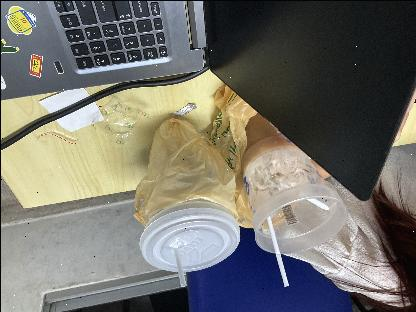Others: (240, 113, 346, 256), (206, 82, 288, 230), (131, 115, 239, 219), (136, 199, 240, 273), (34, 81, 104, 133), (93, 91, 146, 147), (260, 211, 290, 287), (283, 176, 329, 212), (170, 245, 186, 287), (165, 100, 197, 116)
